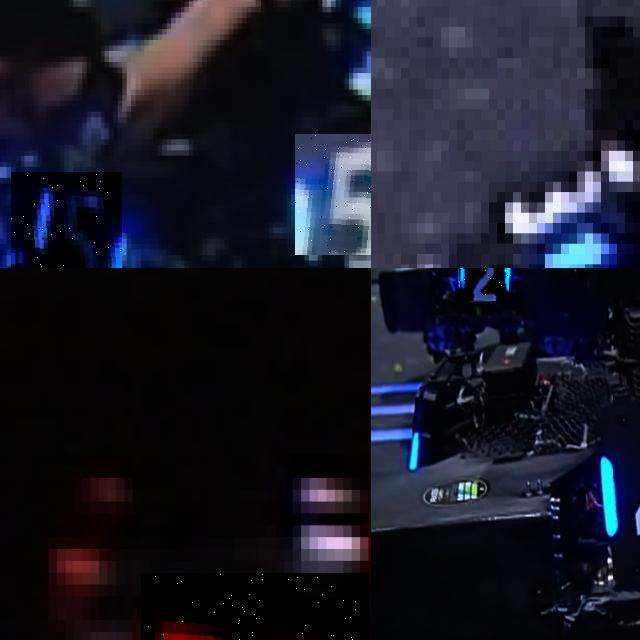B2: (456, 268, 509, 301)
B4: (599, 411, 640, 558)
B5: (11, 172, 122, 268), (295, 133, 371, 255)
R5: (141, 573, 368, 640)
